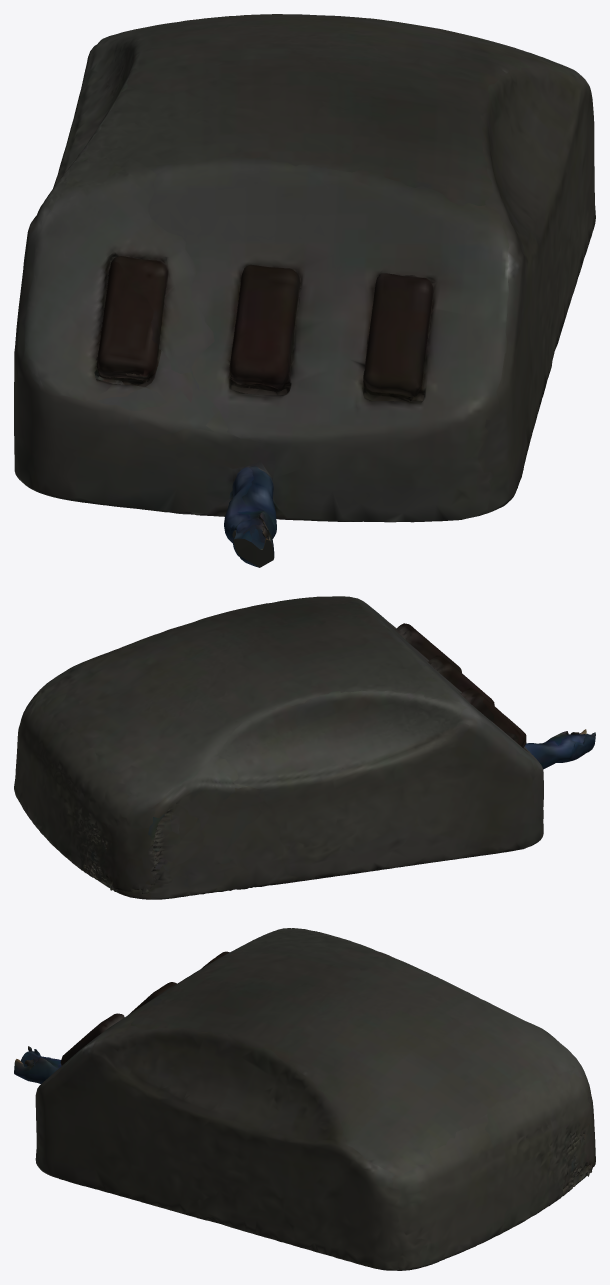
3 renders of one model, top to bottom at view 1: azimuth 30°, elevation 25°; view 2: azimuth 150°, elevation 25°; view 3: azimuth 270°, elevation 25°, orthographic. The views are drawn at different scales.
Visible parts, largest first — view 1: Object_2; view 2: Object_2; view 3: Object_2.
Part boxes in pixels (x1=…): Object_2: x1=14, y1=14, x2=595, y2=567; Object_2: x1=14, y1=596, x2=595, y2=899; Object_2: x1=14, y1=928, x2=595, y2=1270.
Bounding box in the file's own units: 118 × 47 × 129.
1 material, 1 textured.
